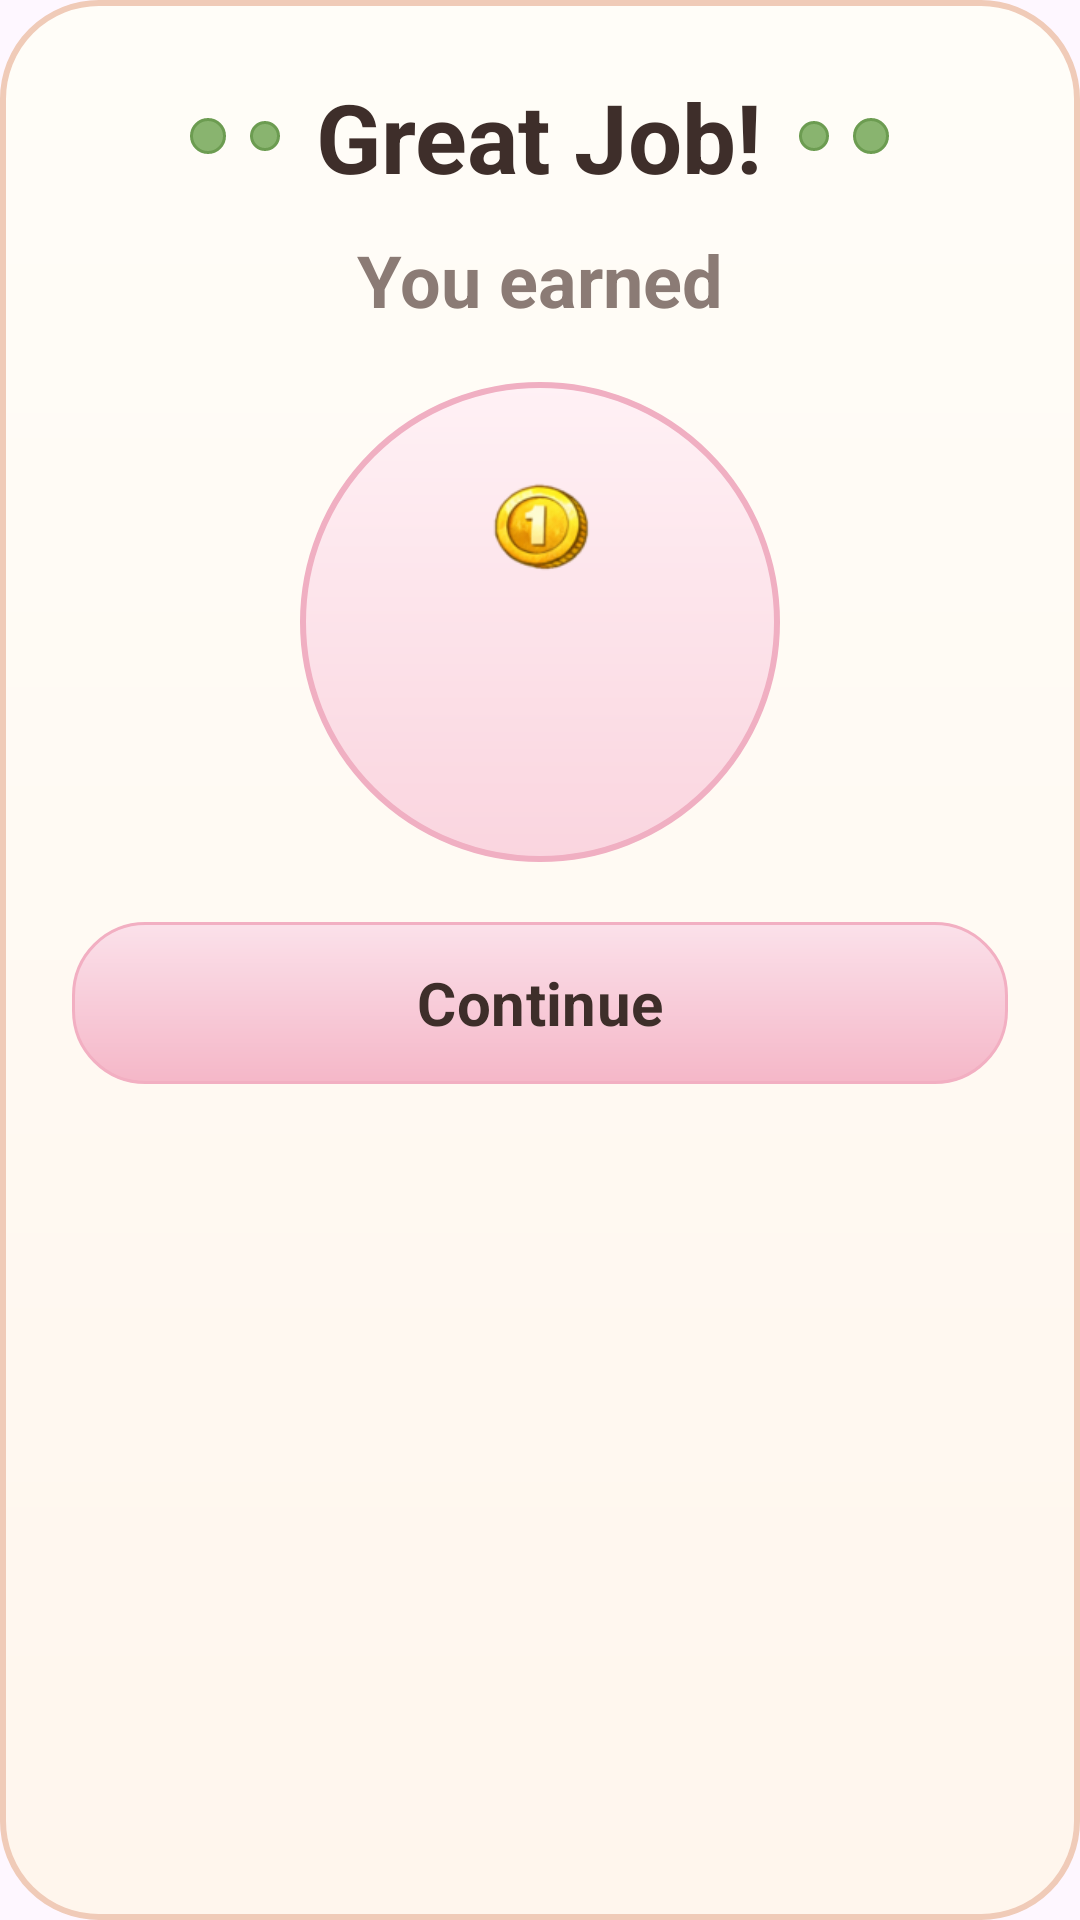

Screen size 1080 x 1920. Icon name, then its box in pixels as box(x1, y1, x2, y2):
Coins: box(494, 484, 589, 570)
